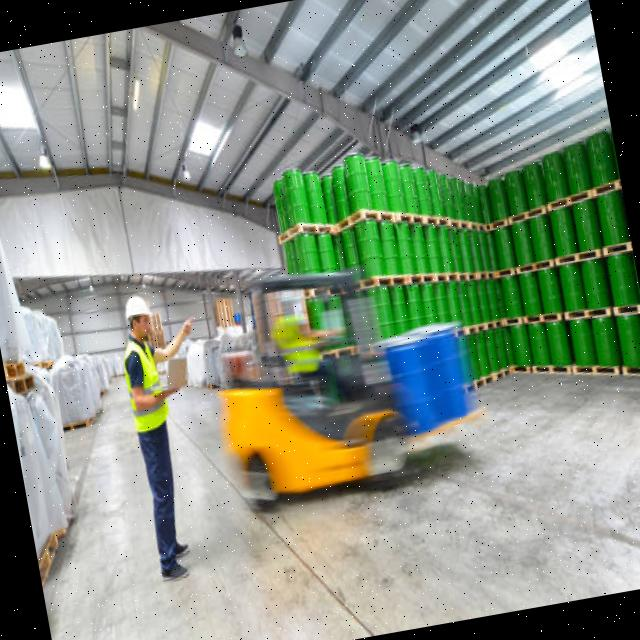Wooden-Pallets: (551, 235, 607, 287), (543, 179, 595, 229), (571, 360, 622, 389), (562, 301, 614, 328)
